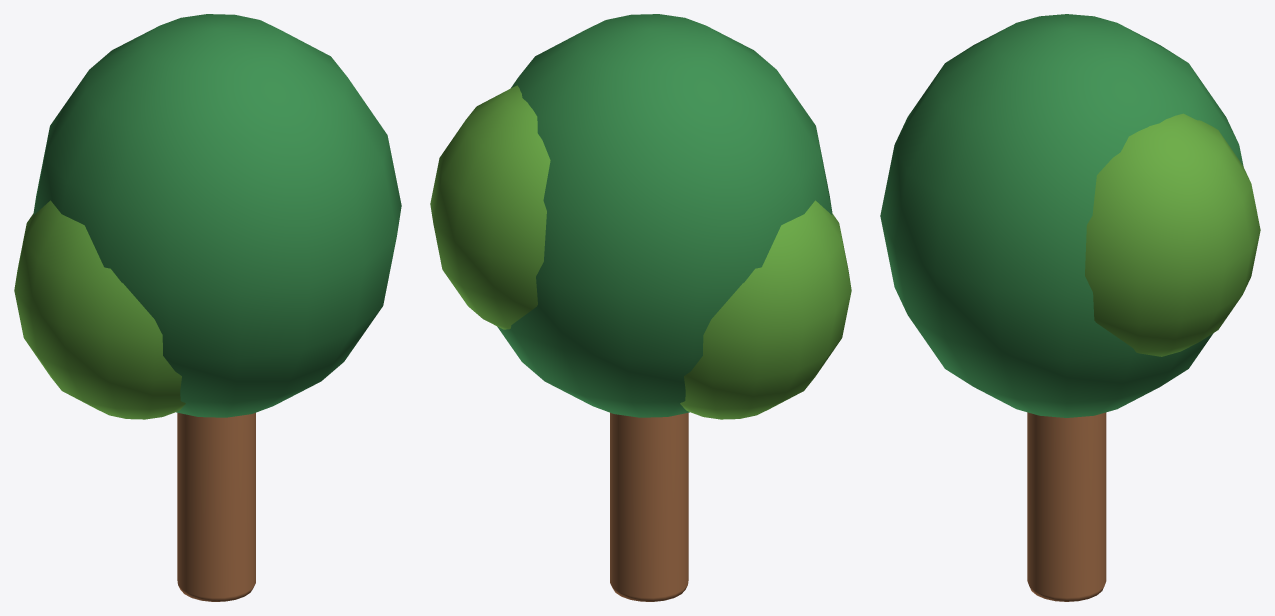
Rendered from tree.fbx.
3 views of the same model, side by side, from view 1: azimuth 30°, elevation 25°; view 2: azimuth 150°, elevation 25°; view 3: azimuth 270°, elevation 25° (orthographic).
Parts seen in each view (by area): view 1: Rounded canopy, Rounded canopy.001, Trunk; view 2: Rounded canopy, Rounded canopy.001, Rounded canopy.002, Trunk; view 3: Rounded canopy, Rounded canopy.002, Trunk.
Boxes of the visible parts, x1,y1,x2,y2 form: Rounded canopy: [33, 14, 401, 417]; Rounded canopy.001: [14, 200, 185, 419]; Trunk: [177, 412, 255, 601]; Rounded canopy: [497, 14, 832, 417]; Rounded canopy.001: [680, 200, 851, 419]; Rounded canopy.002: [430, 85, 550, 329]; Trunk: [610, 412, 688, 601]; Rounded canopy: [880, 14, 1243, 417]; Rounded canopy.002: [1085, 113, 1260, 356]; Trunk: [1027, 412, 1106, 601].
Bounding box in the file's own units: 1.14 × 1.72 × 1.06.
